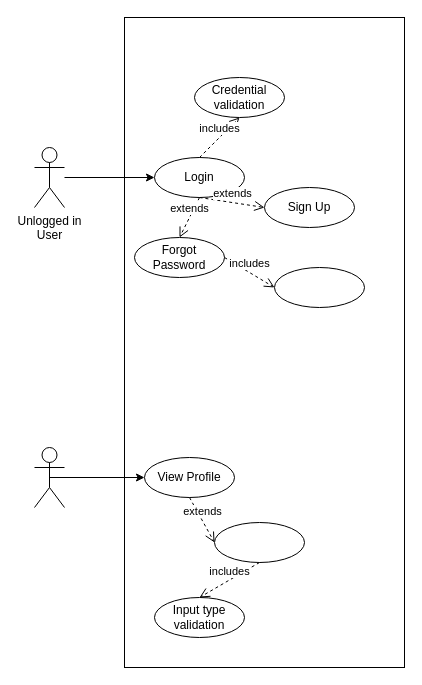
Some shapes in this 422 by 685 pixel diagram are drawn without their labels. Each missing label, with the centre of its shape:
"Change data" belongs at pixel 259 542.
"Logged in User" belongs at pixel 49 477.
"User Varification" belongs at pixel 319 287.
